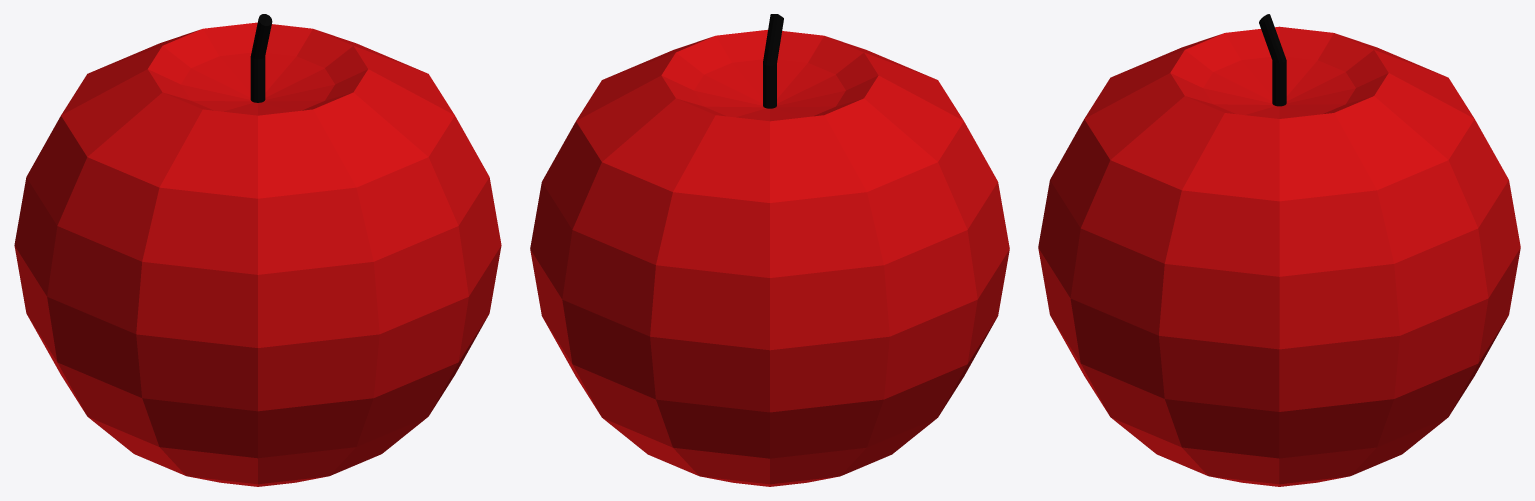
Rendered from demApplesRed.fbx.
3 views of the same model, side by side, from view 1: azimuth 30°, elevation 25°; view 2: azimuth 150°, elevation 25°; view 3: azimuth 270°, elevation 25° (orthographic).
Parts seen in each view (by area): view 1: Sphere; view 2: Sphere; view 3: Sphere.
Part boxes in pixels (left/top/right/bottom): Sphere: left=14, top=14, right=501, bottom=486; Sphere: left=530, top=14, right=1009, bottom=486; Sphere: left=1038, top=14, right=1520, bottom=486.
Bounding box in the file's own units: 200 × 206 × 200.
